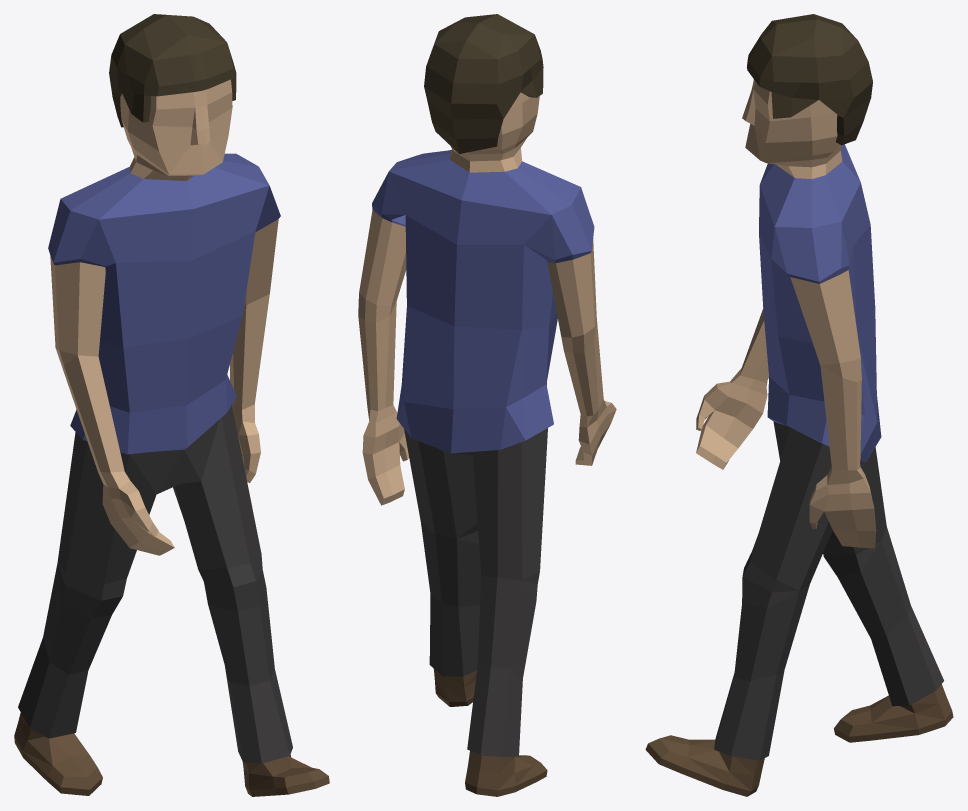
File: 56 People_Male_3.fbx
The picture shows the model from 3 angles, left to right: view 1: azimuth 30°, elevation 25°; view 2: azimuth 150°, elevation 25°; view 3: azimuth 270°, elevation 25°; orthographic projection. The views are drawn at different scales.
Parts seen in each view (by area): view 1: Male_Hairstyle43; view 2: Male_Hairstyle43; view 3: Male_Hairstyle43.
Boxes of the visible parts, x1,y1,x2,y2 form: Male_Hairstyle43: (14,14,329,796); Male_Hairstyle43: (358,14,616,796); Male_Hairstyle43: (645,14,953,796).
Bounding box in the file's own units: 11.82 × 37.94 × 14.16.
